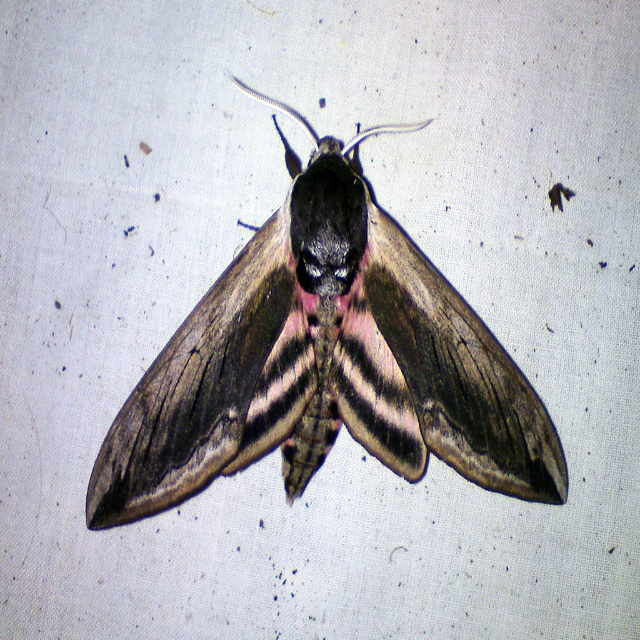Moths and butterflies: (87, 70, 571, 532)
